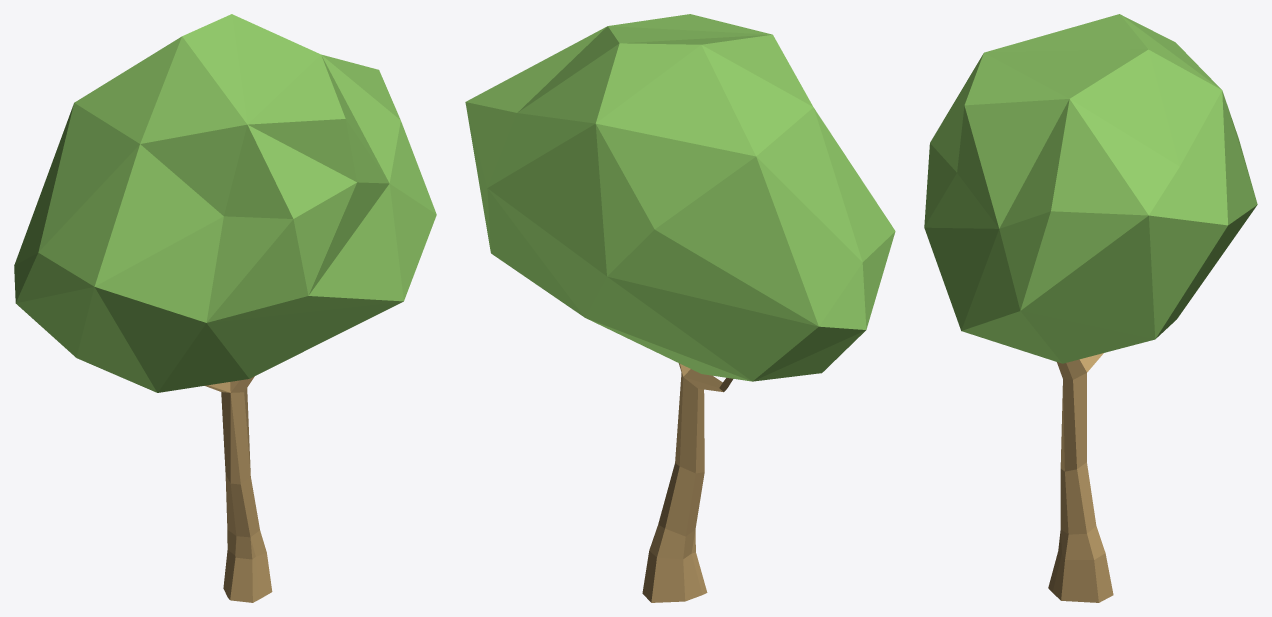
Rendered from Oak_Tree_l_04.fbx.
The picture shows the model from 3 angles, left to right: view 1: azimuth 30°, elevation 25°; view 2: azimuth 150°, elevation 25°; view 3: azimuth 270°, elevation 25°; orthographic projection. The views are drawn at different scales.
Parts seen in each view (by area): view 1: Oak_Tree_l_04; view 2: Oak_Tree_l_04; view 3: Oak_Tree_l_04.
Part boxes in pixels (left/top/right/bottom): Oak_Tree_l_04: left=14, top=14, right=436, bottom=602; Oak_Tree_l_04: left=465, top=14, right=895, bottom=602; Oak_Tree_l_04: left=924, top=14, right=1257, bottom=602.
Size of the model in its own units: 795 by 1118 by 607.
